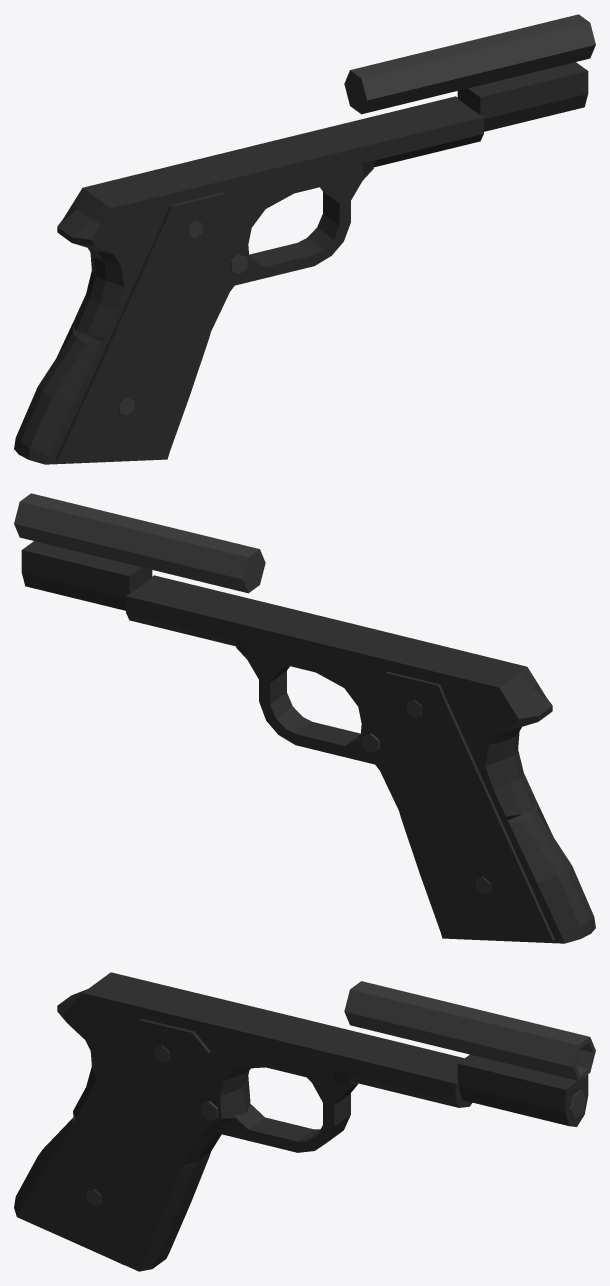
Rendered from Pistol2_04.fbx.
The picture shows the model from 3 angles, top to bottom: view 1: azimuth 30°, elevation 25°; view 2: azimuth 150°, elevation 25°; view 3: azimuth 330°, elevation 25°; orthographic projection.
Parts seen in each view (by area): view 1: Pistol2_04; view 2: Pistol2_04; view 3: Pistol2_04.
Boxes of the visible parts, x1,y1,x2,y2 form: Pistol2_04: (14, 14, 595, 464); Pistol2_04: (14, 493, 595, 943); Pistol2_04: (14, 972, 595, 1271).
Bounding box in the file's own units: 0.2643 × 0.1459 × 0.0274.
